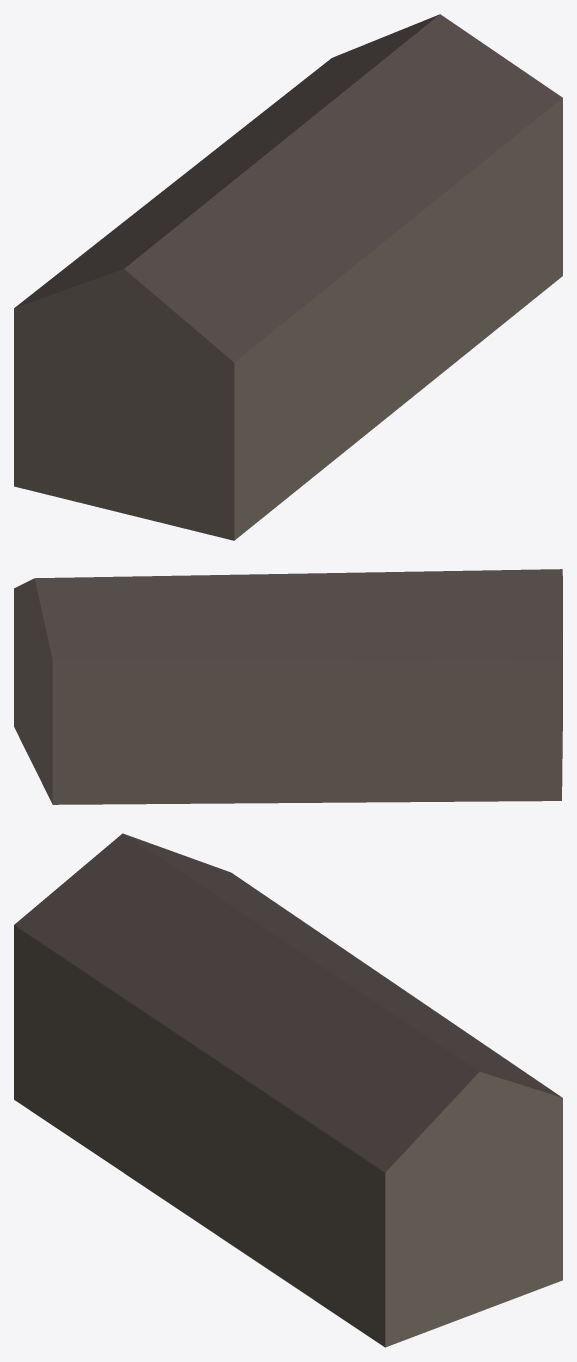
3 views of the same model, one above another, from view 1: azimuth 30°, elevation 25°; view 2: azimuth 150°, elevation 25°; view 3: azimuth 270°, elevation 25° (orthographic). The views are drawn at different scales.
Visible parts, largest first — view 1: HP-w1512359818; view 2: HP-w1512359818; view 3: HP-w1512359818.
Part boxes in pixels (bbox=[...]): HP-w1512359818: bbox=[14, 14, 562, 540]; HP-w1512359818: bbox=[14, 569, 562, 804]; HP-w1512359818: bbox=[14, 833, 562, 1347].
Bounding box in the file's own units: 22.12 × 8.25 × 17.09.
